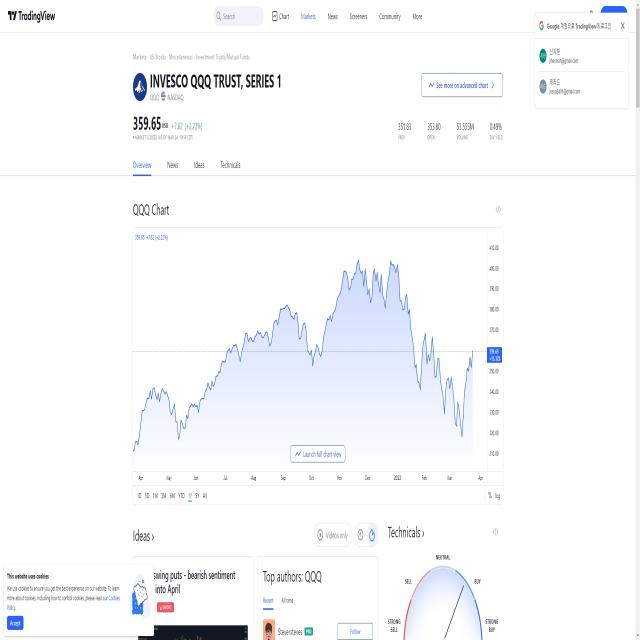menu-bar: (268, 6, 424, 27)
search: (211, 4, 263, 28)
tab-bar: (128, 154, 243, 180)
